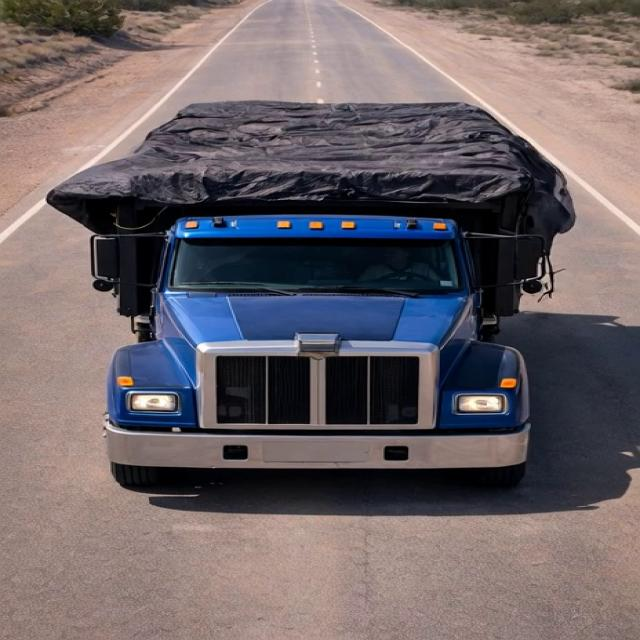trailer: (56, 99, 593, 224)
truck: (31, 71, 609, 483)
